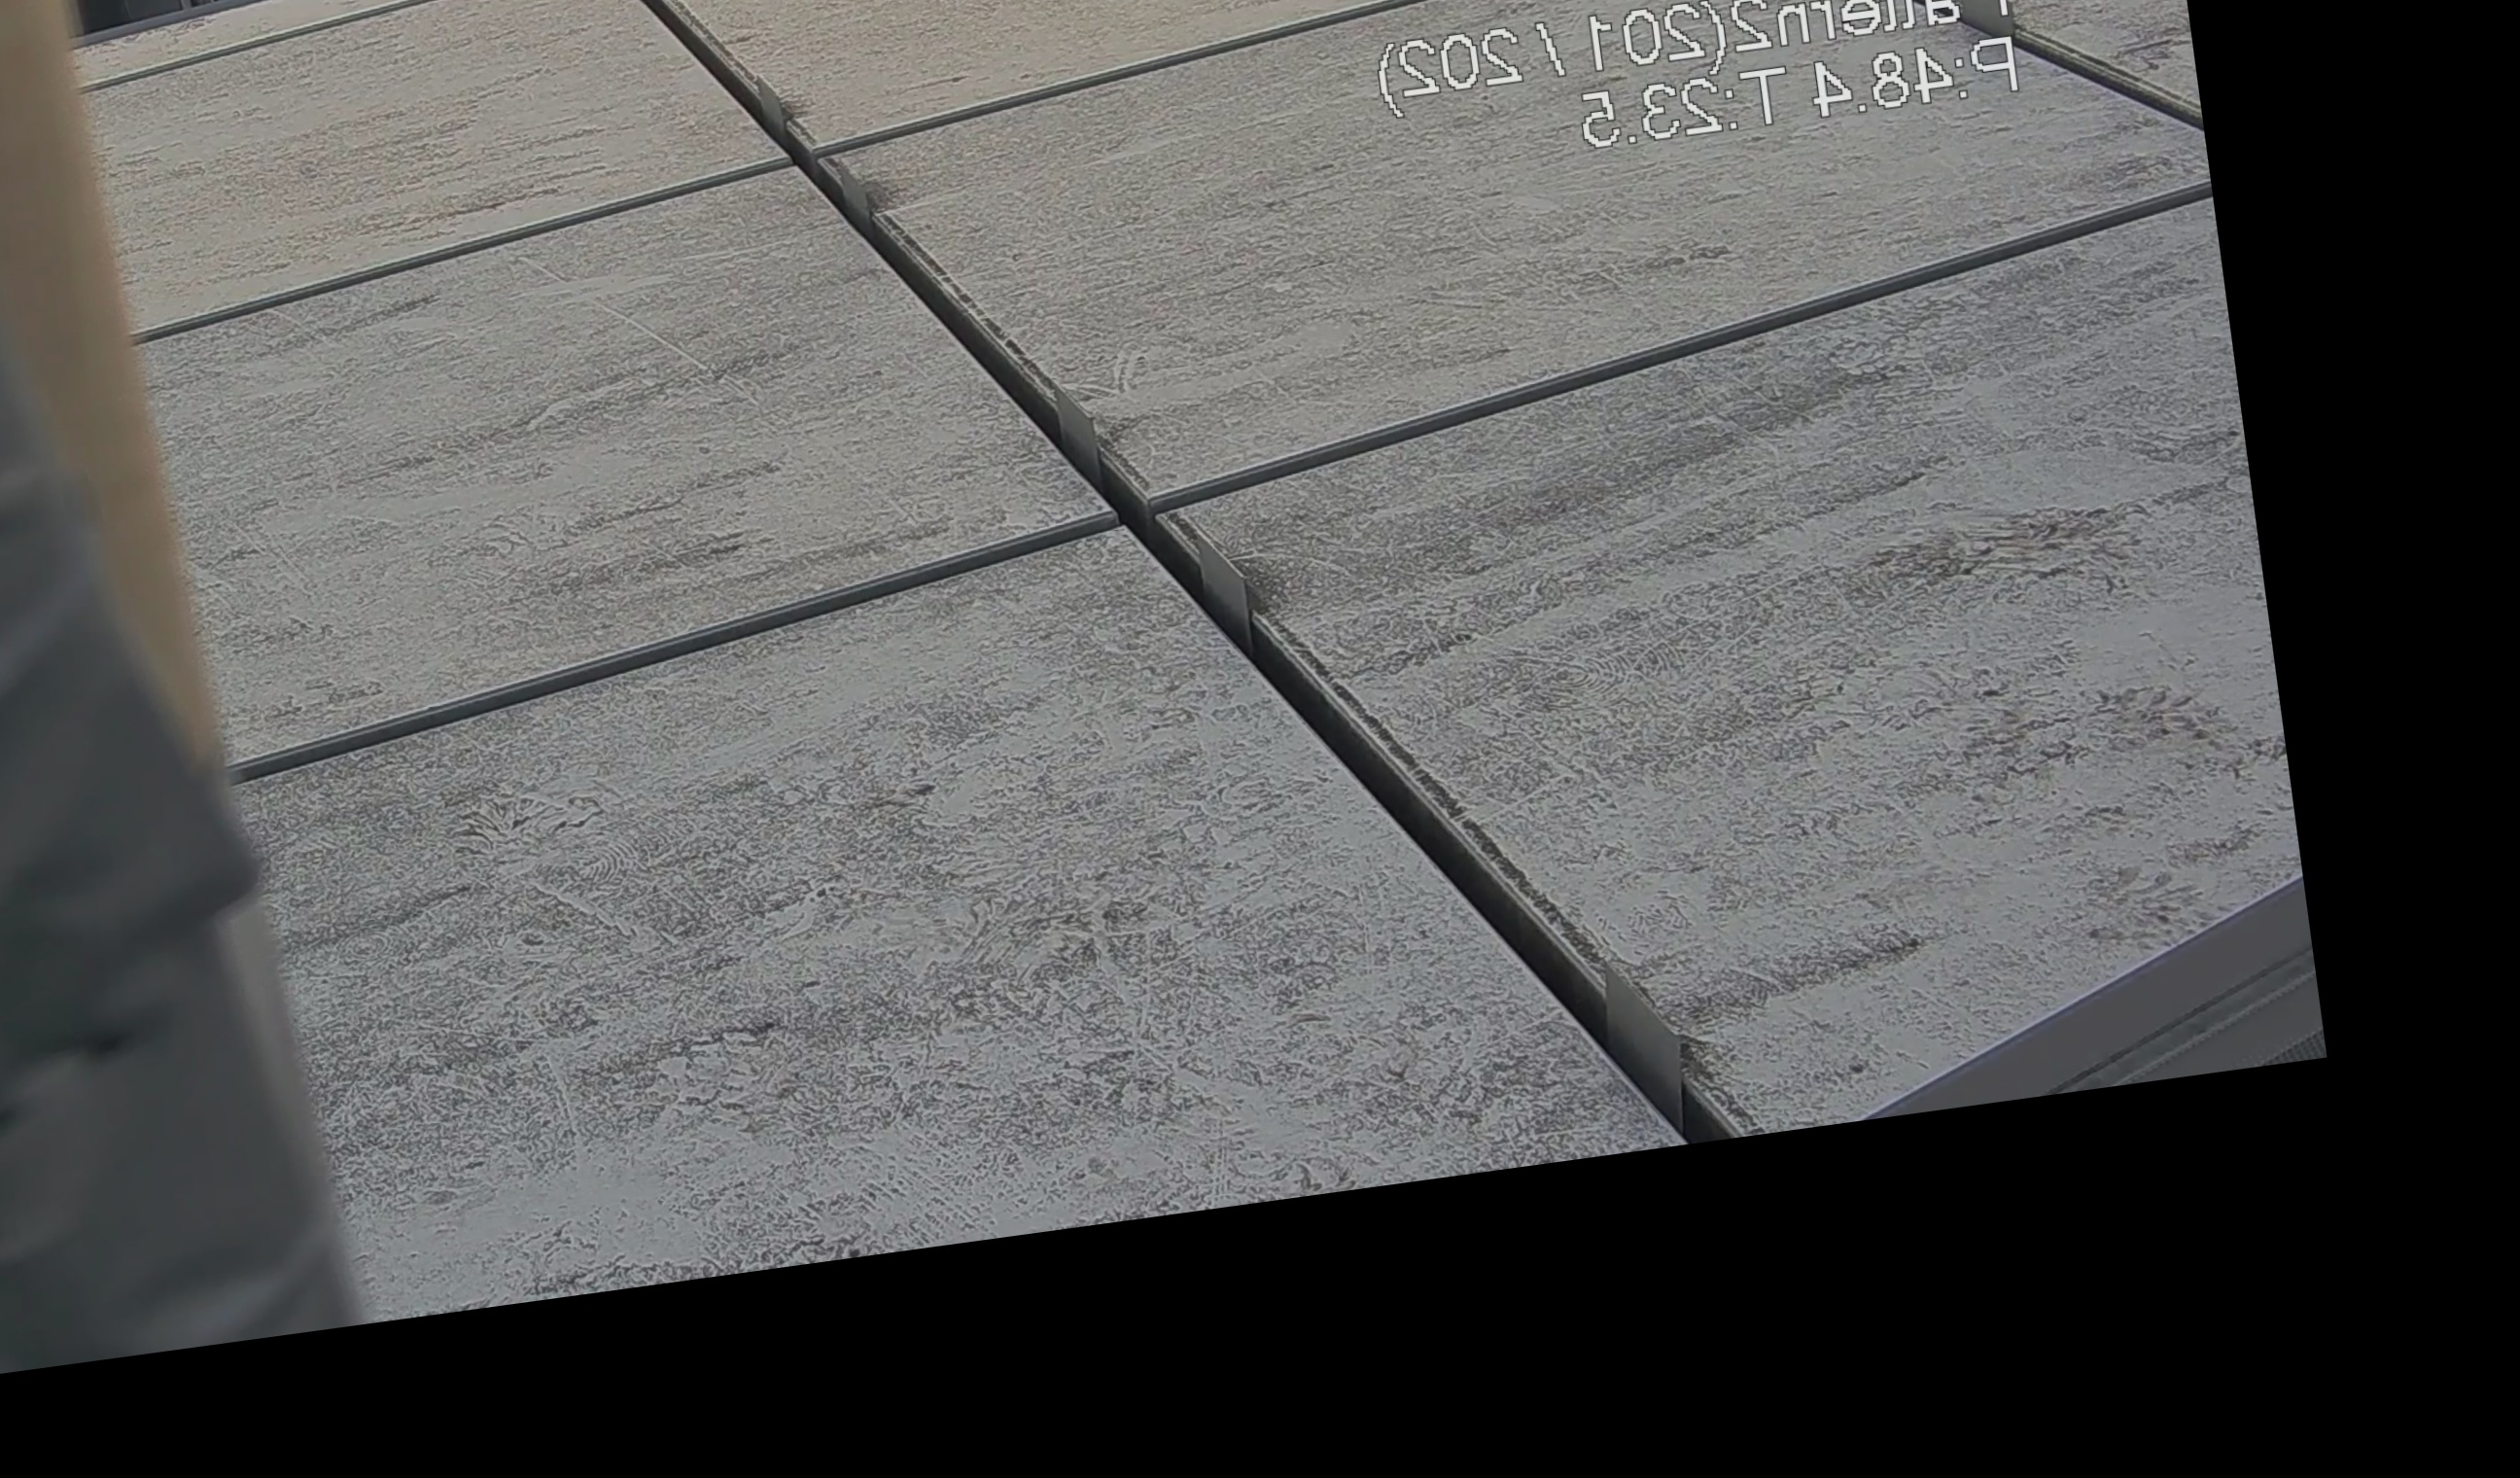Other: (0, 0, 371, 1478)
